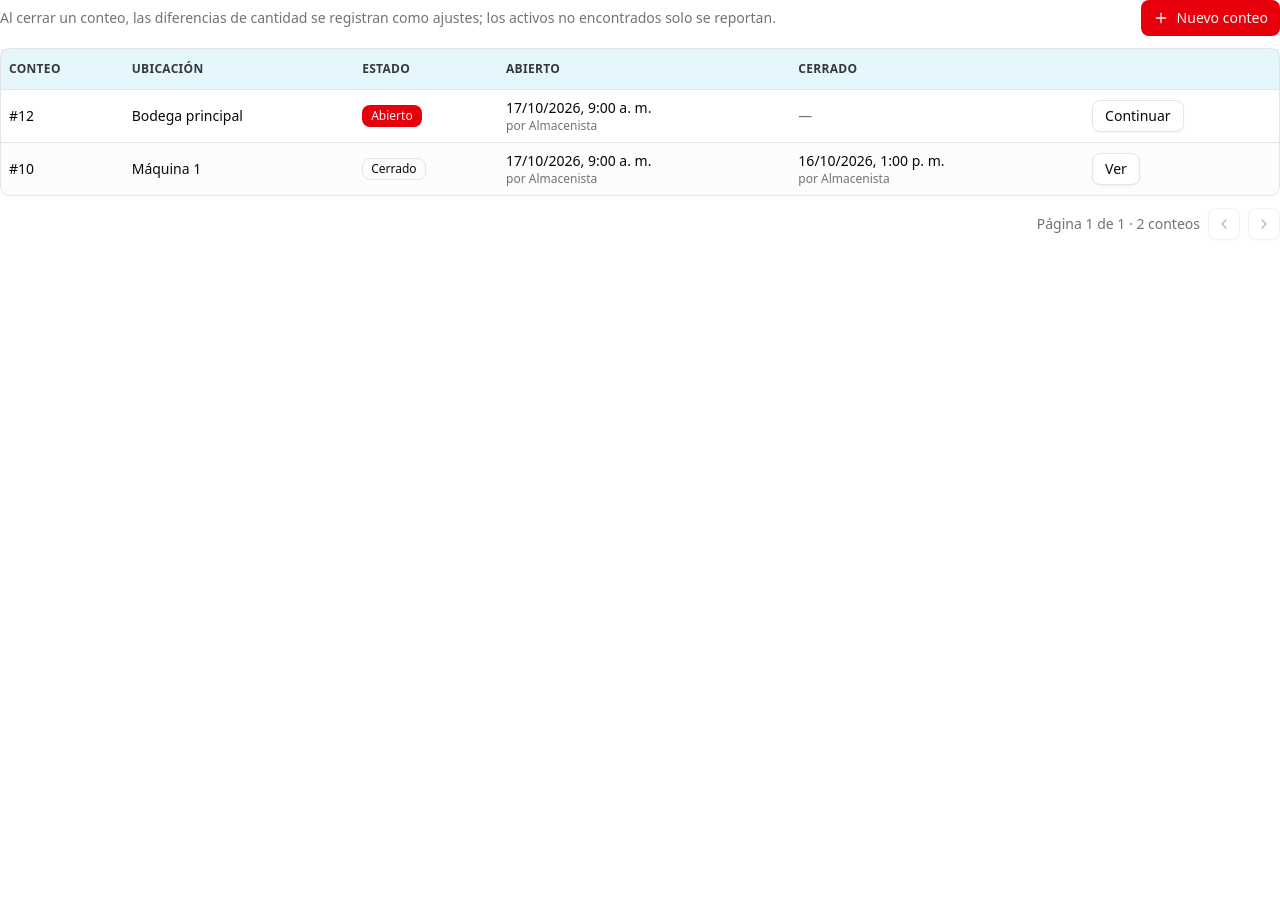
CountsTab (006 US3, RN-027, RN-037) › cierra con confirmación: guarda, cierra y resume ajustes, no encontrados (sin cambio de estado) y cambios desde la apertura (US3-1, US3-2, US3-4)
The width and height of the screenshot is (1280, 900).
Click the button "Continuar".
click(1138, 116)  # box 1092,100 -> 1184,132
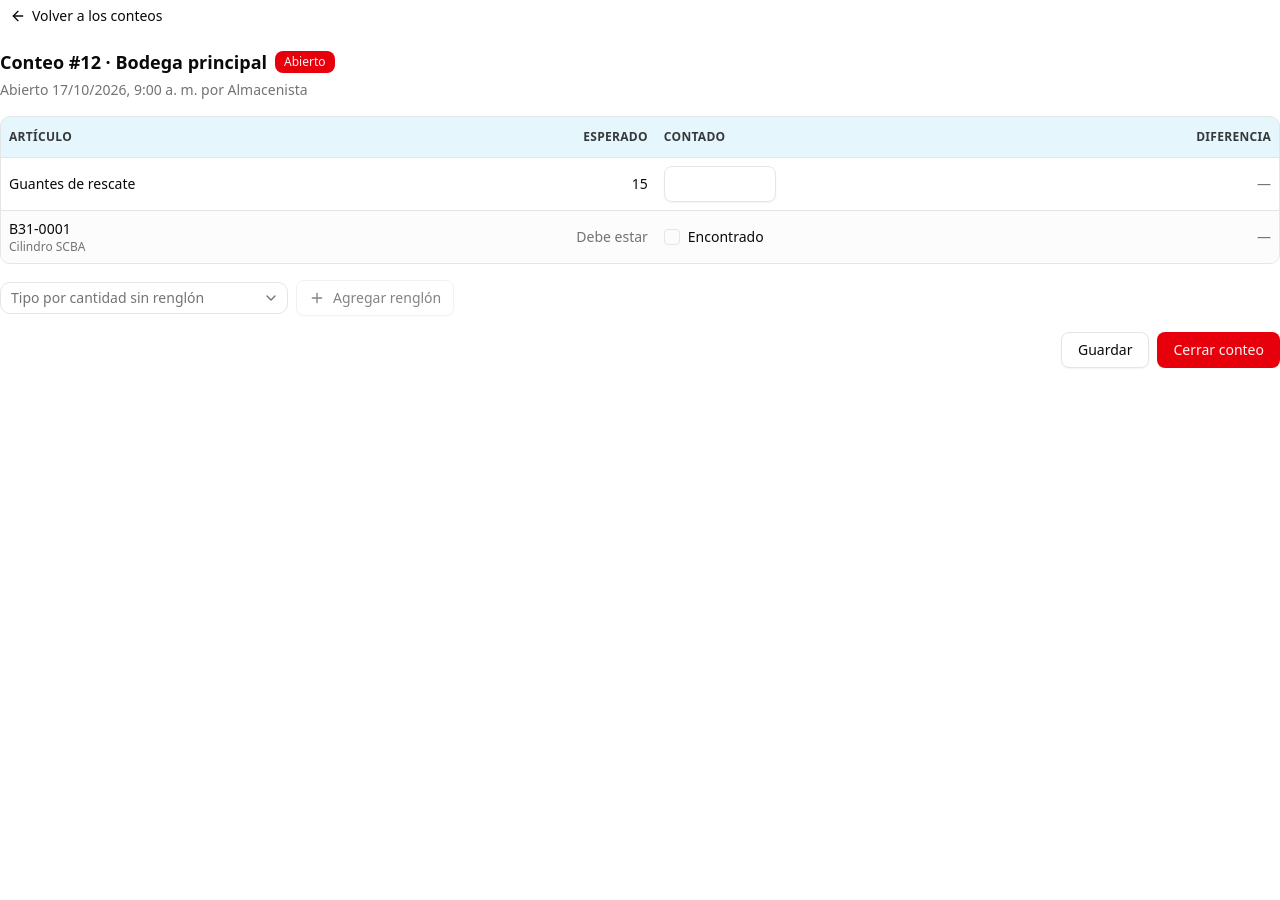
Type "13" into the number field named "Contado de Guantes de rescate".
click(720, 184); type("13")  # box 664,166 -> 776,202
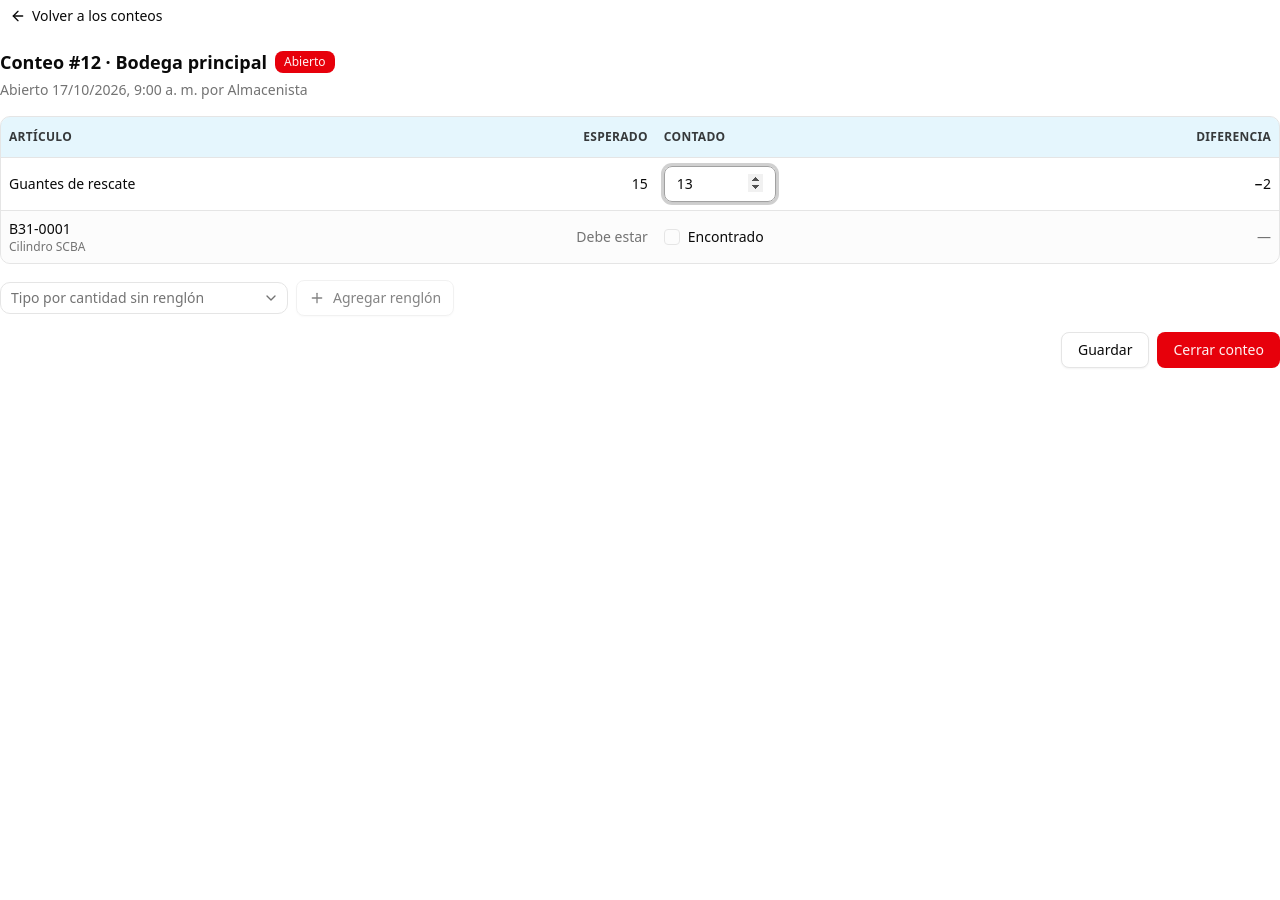
Click the button "Cerrar conteo".
click(1219, 350)  # box 1157,332 -> 1279,368
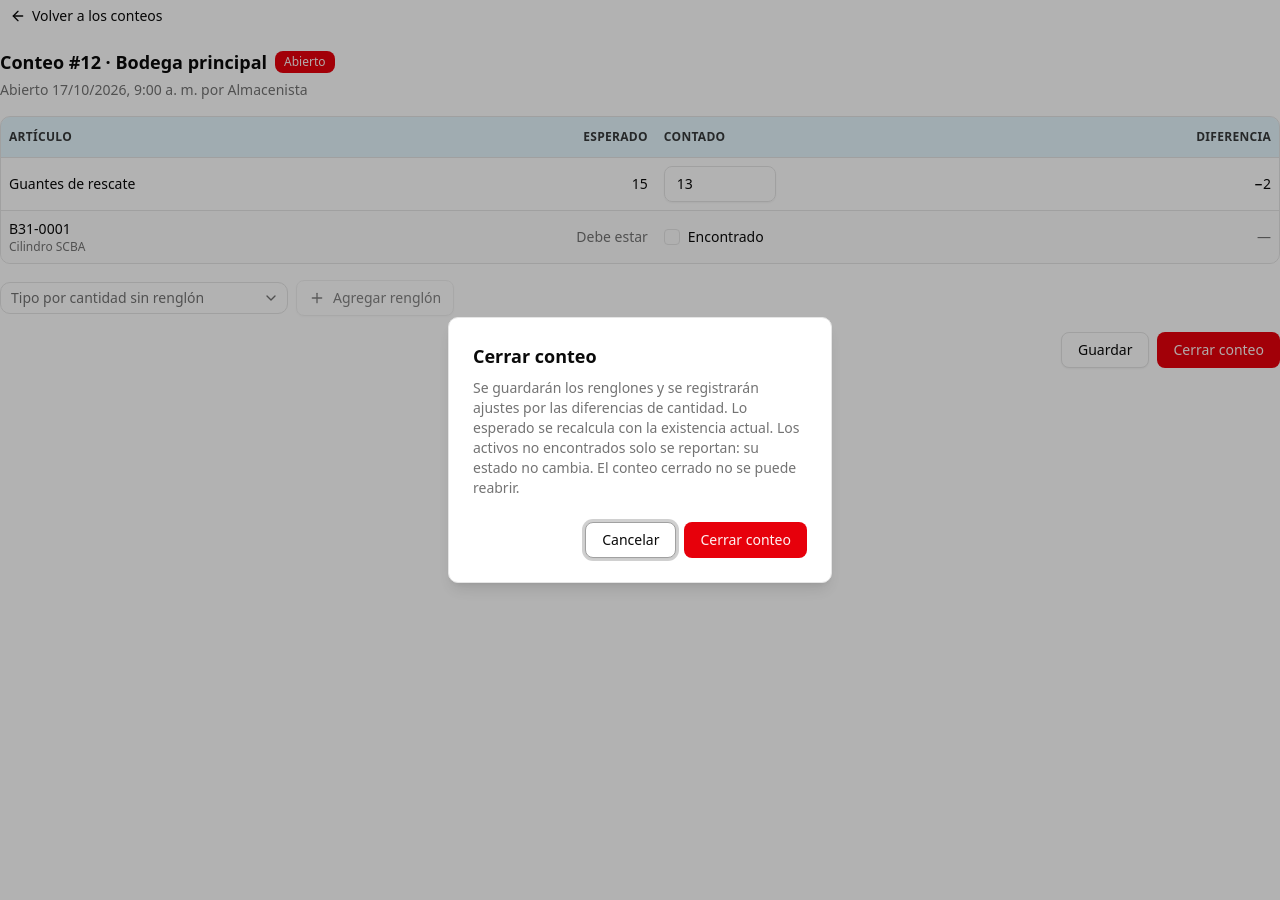
Now the text "su estado no cambia" is shown, box 473,378 -> 800,497
Click the button "Cerrar conteo".
click(746, 540)  # box 684,522 -> 807,558
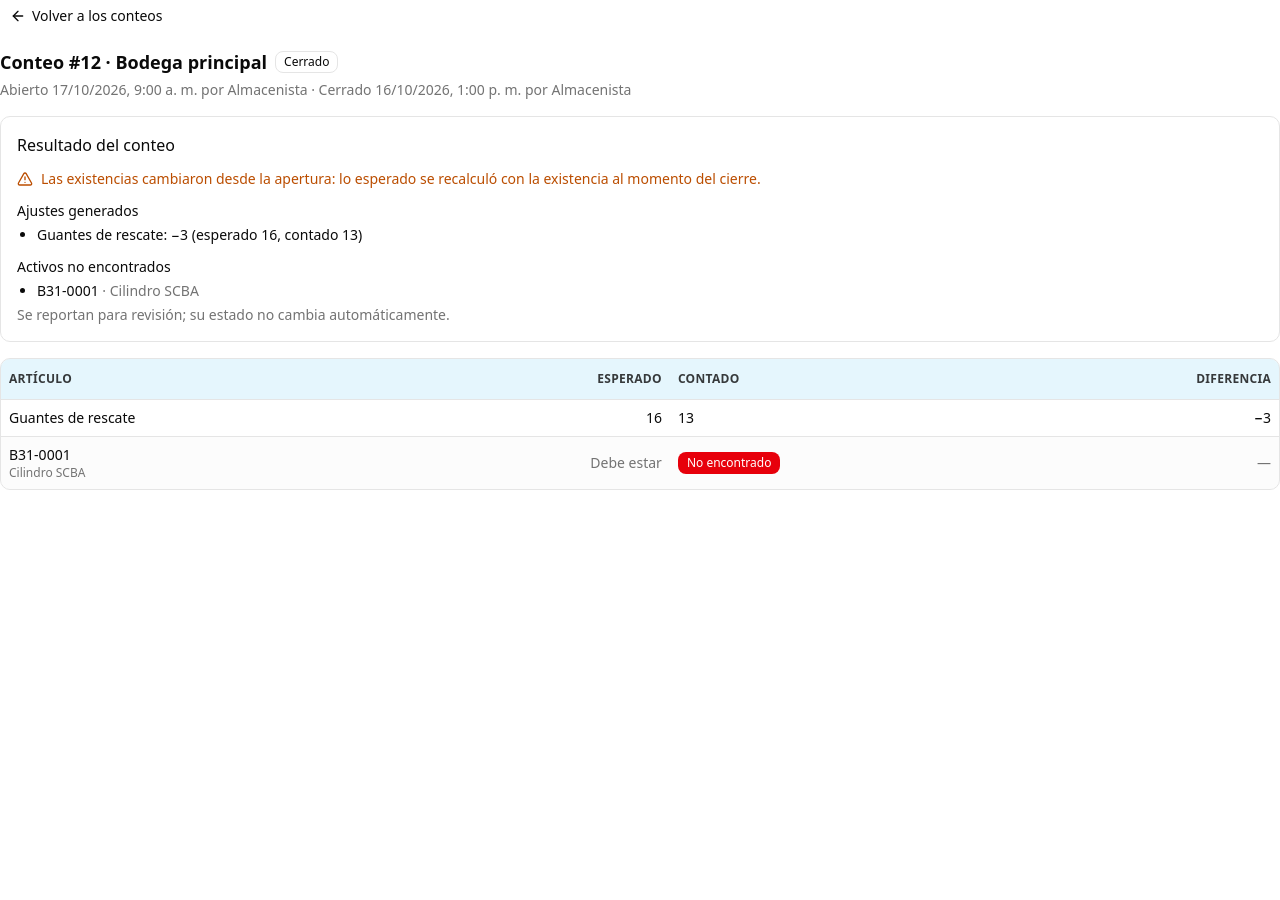
Now the text "Las existencias cambiaron desde la apertura" is shown, box 41,169 -> 761,188
Now the list item "Guantes de rescate: −3 (esperado 16, contado 13)" is shown, box 37,225 -> 362,244
Now the text "B31-0001" below "Activos no encontrados" is shown, box 37,281 -> 99,300
